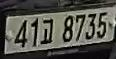1: (30, 17, 40, 48)
3: (86, 12, 96, 40)
4: (14, 19, 28, 49)
5: (97, 12, 108, 40)
7: (74, 12, 86, 42)
8: (60, 14, 74, 44)
고: (39, 17, 56, 46)
